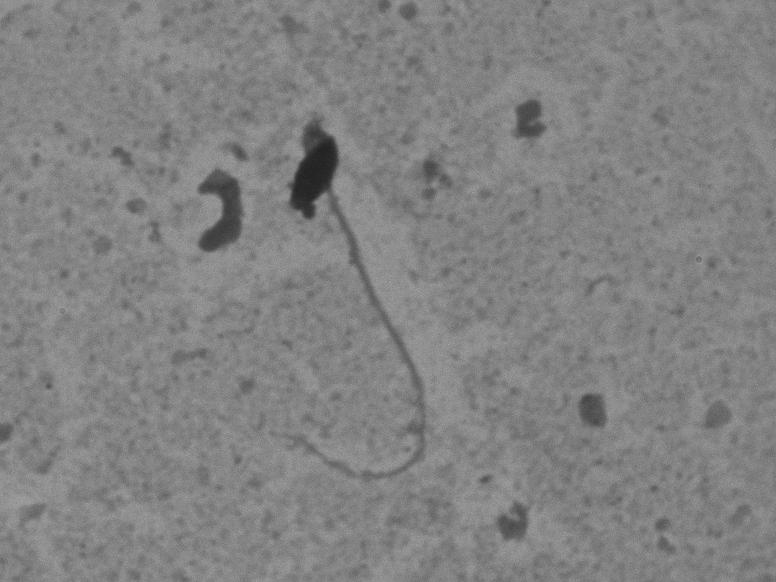Abnormal: (211, 109, 456, 499)
